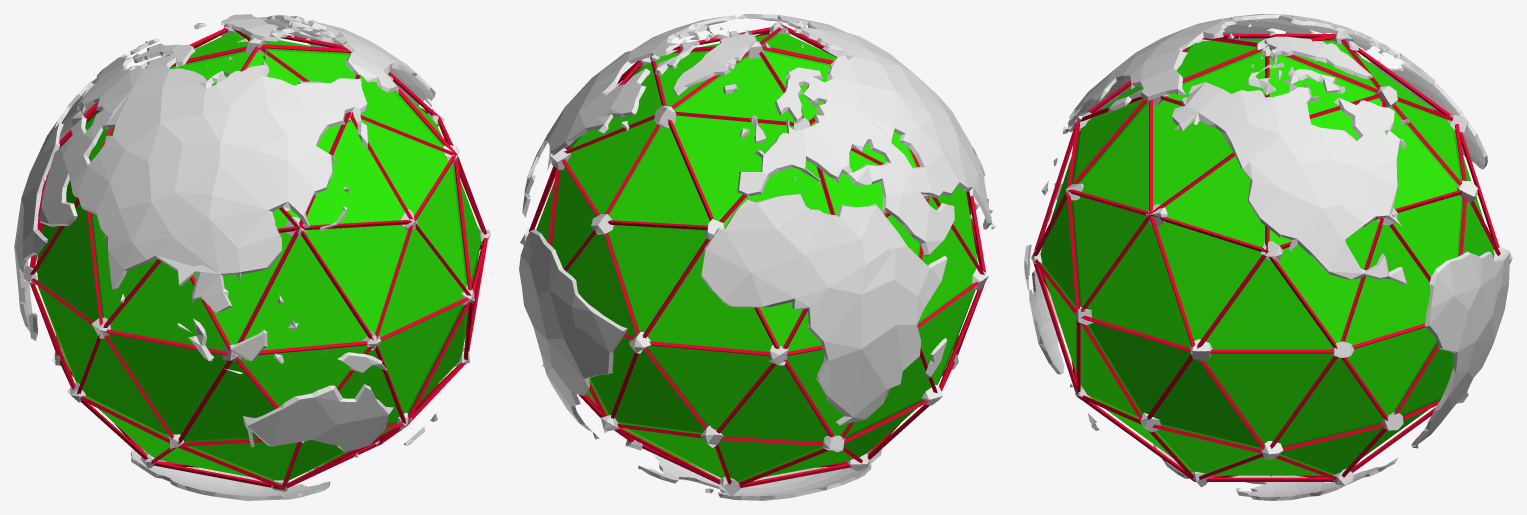
Rendered from globe-optimized-transformed.glb.
3 renders of one model, left to right at view 1: azimuth 30°, elevation 25°; view 2: azimuth 150°, elevation 25°; view 3: azimuth 270°, elevation 25°, orthographic.
Visible parts, largest first — view 1: world, world.001, world.002; view 2: world, world.001, world.002; view 3: world, world.001, world.002.
Part boxes in pixels (box(x1,y1,x2,y2)): world: box(29, 28, 487, 489); world.001: box(14, 14, 437, 500); world.002: box(23, 26, 490, 491); world: box(529, 25, 985, 488); world.001: box(519, 14, 995, 500); world.002: box(520, 21, 988, 496); world: box(1032, 34, 1500, 481); world.001: box(1024, 14, 1510, 500); world.002: box(1031, 30, 1512, 487).
Bounding box in the file's own units: 2.01 × 2.09 × 2.09.
